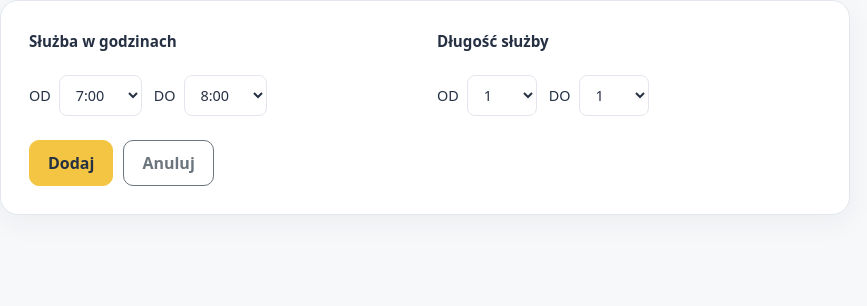
Test: alternative groups and overlapping proposals › blocks a range enclosing another proposal even if both groups are empty
Select "19:00" in the dropdown named "Służba do". click: (225, 96)
box: top-left (184, 75), bottom-right (266, 116)
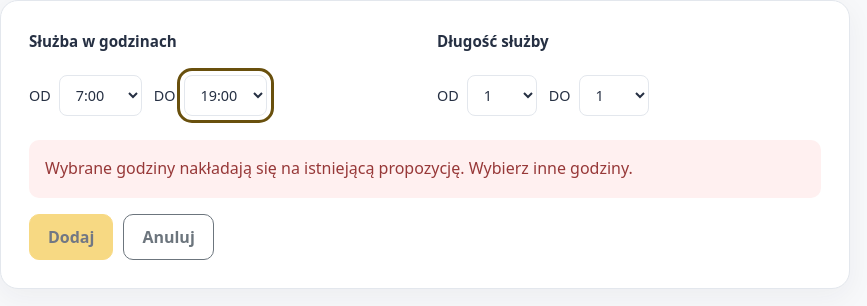
Expected: the button "Dodaj" is disabled, top-left (29, 214), bottom-right (113, 260)
